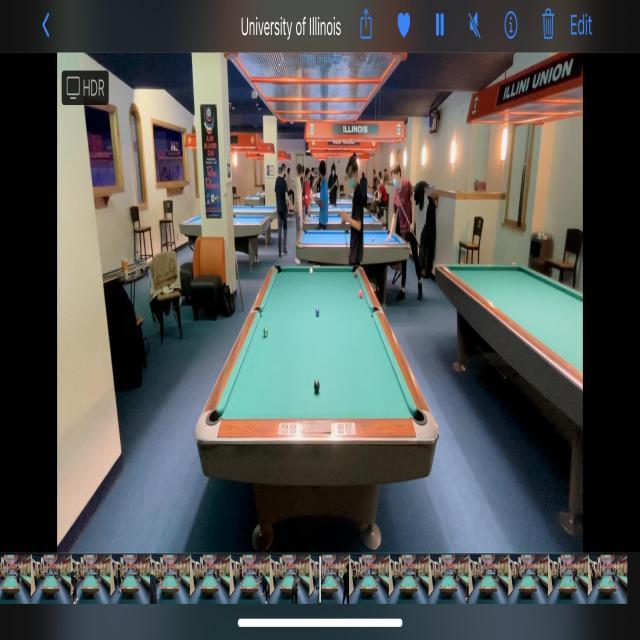Ball: (314, 380, 320, 392), (264, 326, 268, 338), (316, 306, 320, 316), (358, 289, 362, 298), (354, 270, 357, 278), (310, 268, 312, 274)
Pocket: (406, 402, 428, 427), (206, 408, 224, 426), (254, 304, 264, 318), (274, 263, 284, 275), (370, 305, 380, 317), (350, 264, 360, 274)
